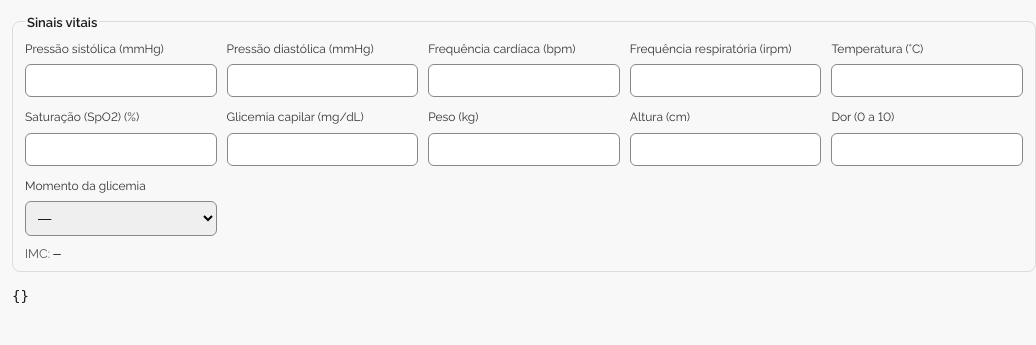
Test: VitalSignsFields › monta os sinais com vírgula decimal e calcula o IMC
Type "185" into the field labelled "Pressão sistólica (mmHg)" at (121, 81), box [25,64,217,97]
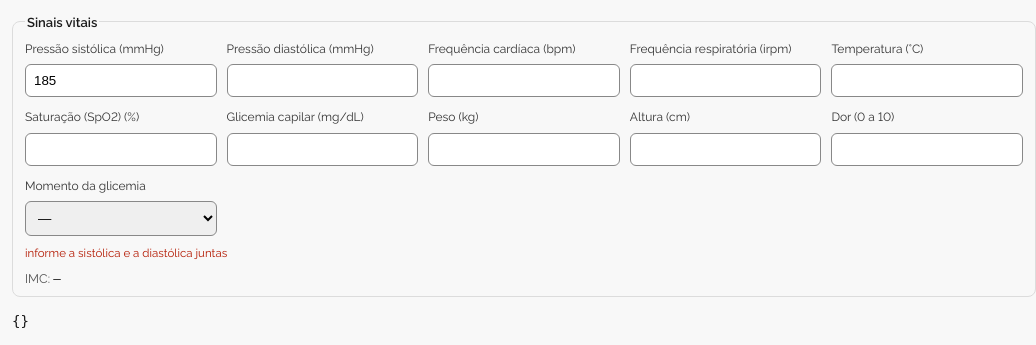
Type "110" into the field labelled "Pressão diastólica (mmHg)" at (322, 81), box [227,64,418,97]
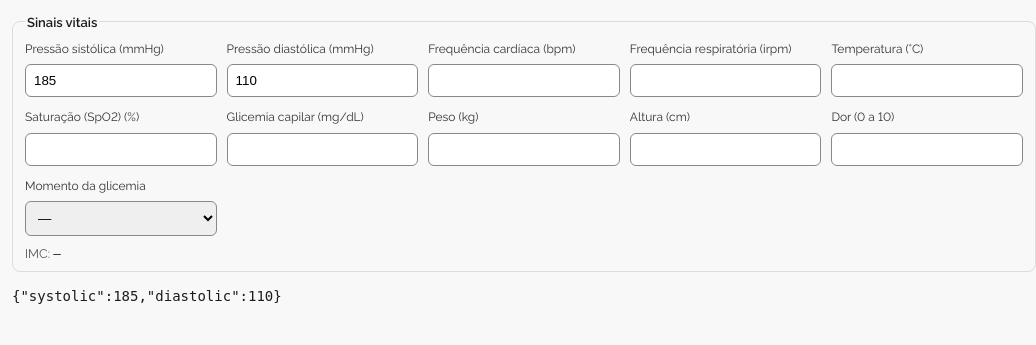
Type "37,8" into the field labelled "Temperatura (°C)" at (927, 81), box [831,64,1023,97]
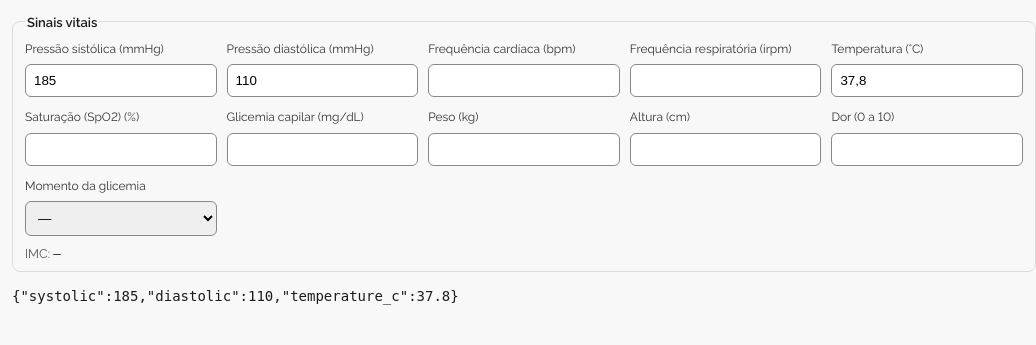
Type "80" into the field labelled "Peso (kg)" at (524, 149), box [428,133,620,166]
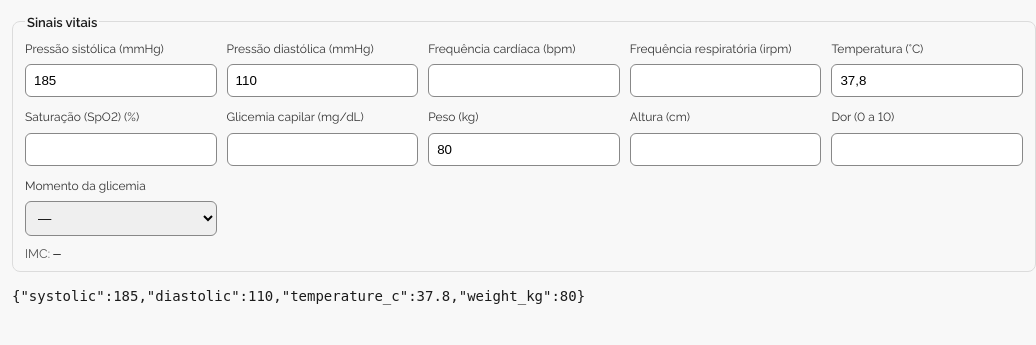
Type "170" into the field labelled "Altura (cm)" at (726, 149), box [630,133,821,166]
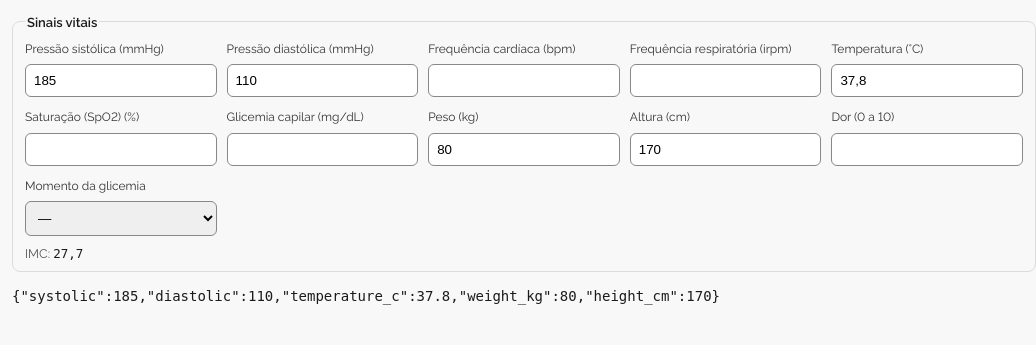
Result: the text "27,7" is shown at [53,246,83,261]
